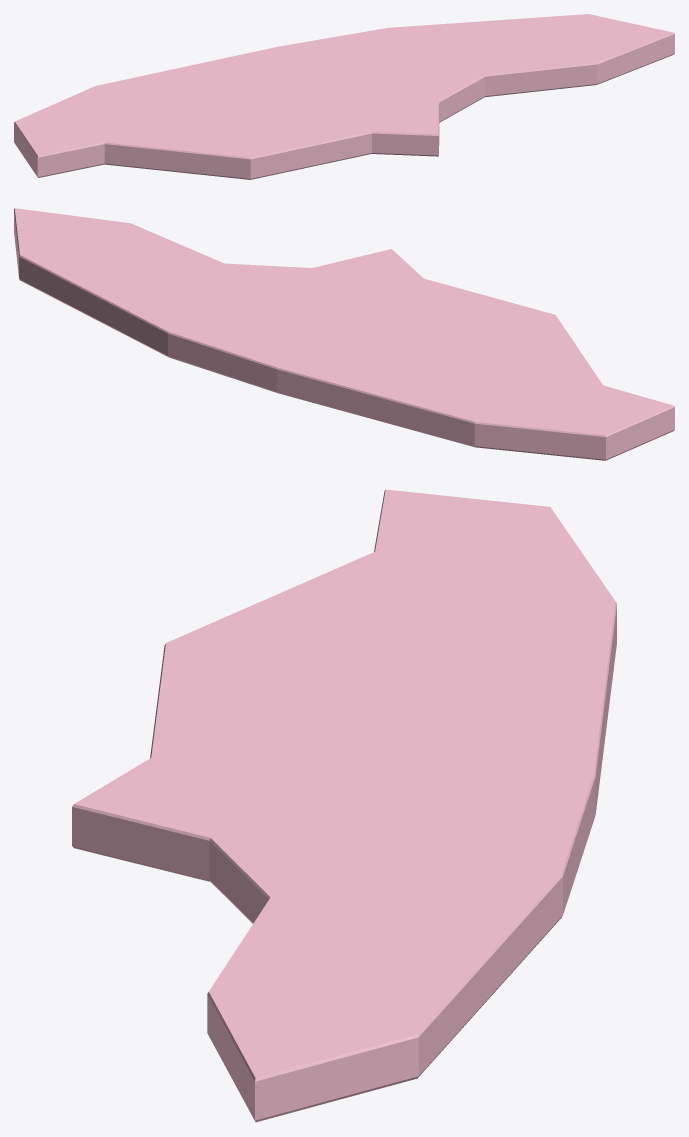
File: JAM.glb
3 views of the same model, one above another, from view 1: azimuth 30°, elevation 25°; view 2: azimuth 150°, elevation 25°; view 3: azimuth 270°, elevation 25° (orthographic). The views are drawn at different scales.
Bounding box in the file's own units: 1.95 × 0.068 × 0.7605.
